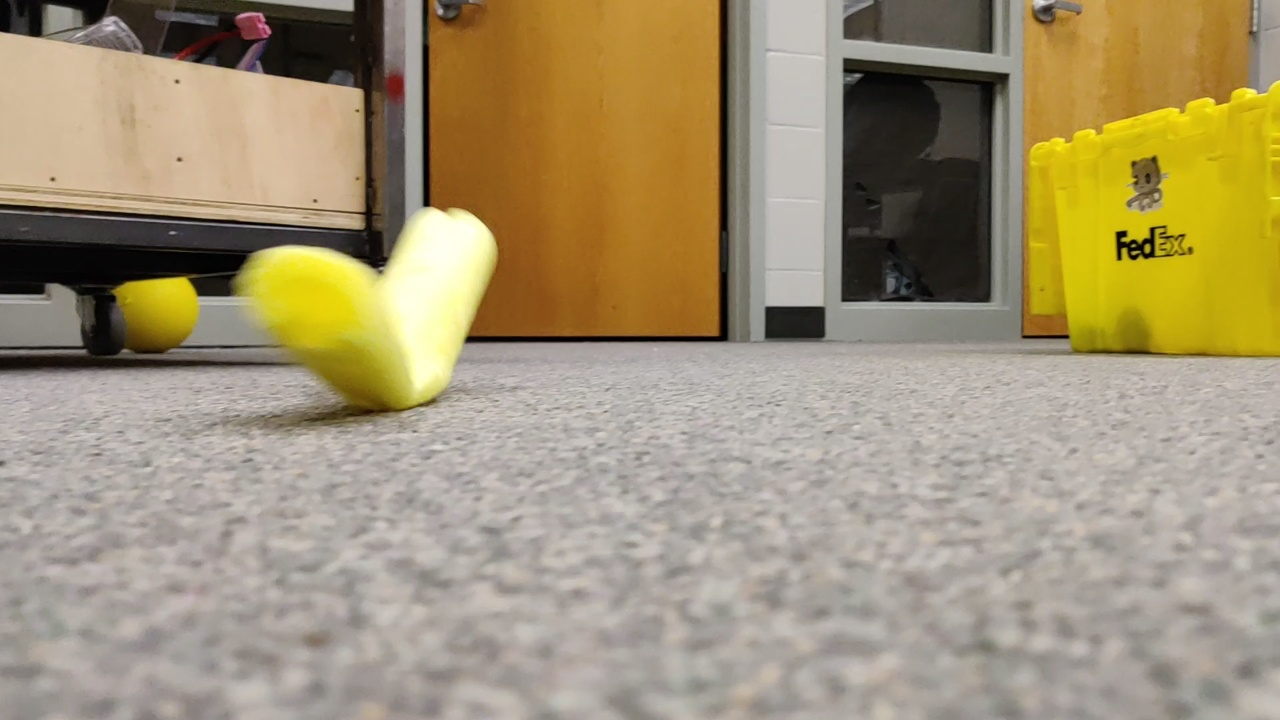Ball: (87, 277, 199, 359)
